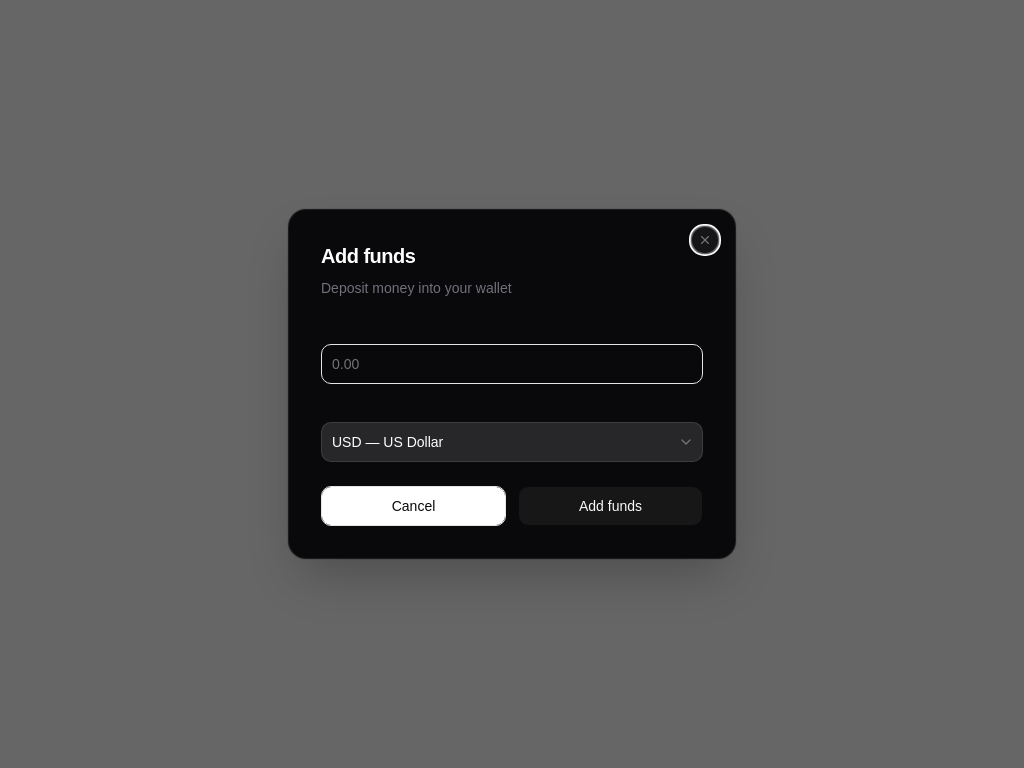
Test: AddFundsModal — form validation › shows error when amount is zero
Type "0" into the field labelled "Amount" at coordinates (512, 364), box [321,344,703,384]
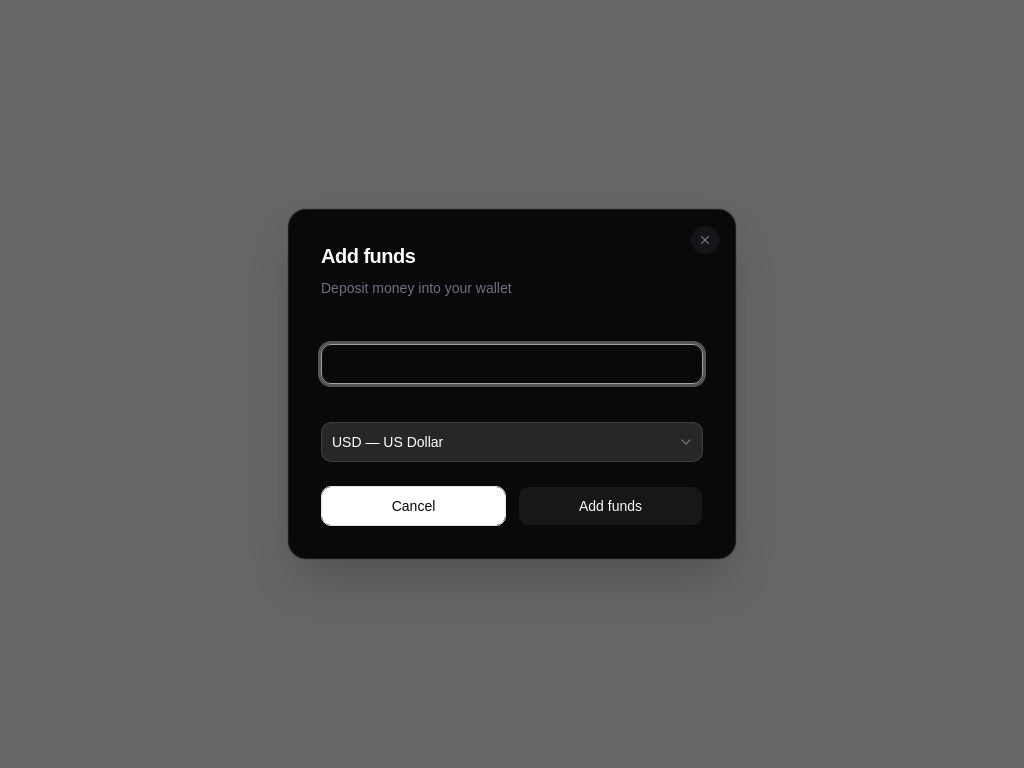
Click the button "Add funds" at coordinates (610, 506), box [518,486,703,526]
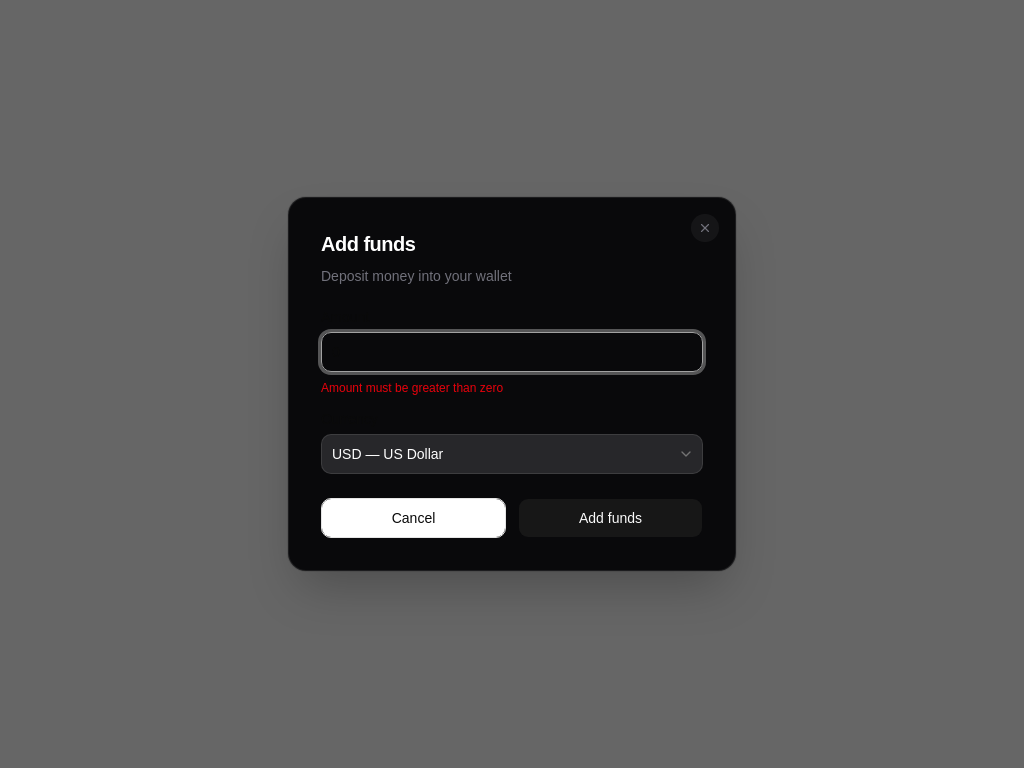
expect the text "Amount must be greater than zero" is shown: met, box [321,381,503,395]
